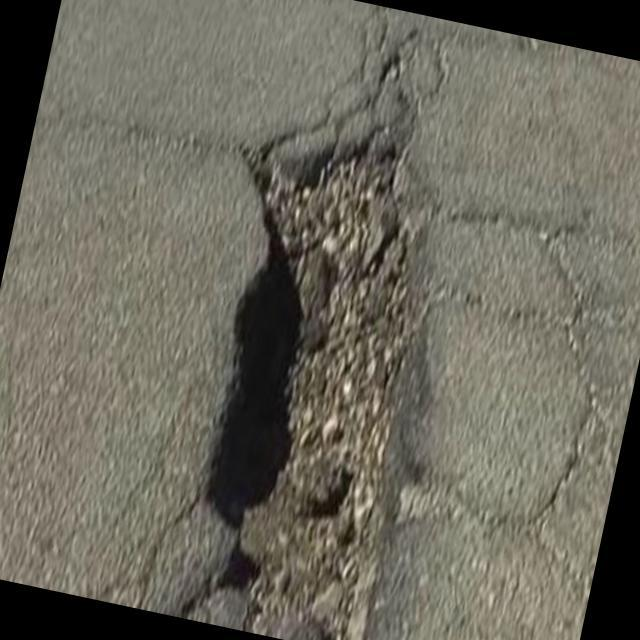Pothole: (158, 121, 458, 640)
